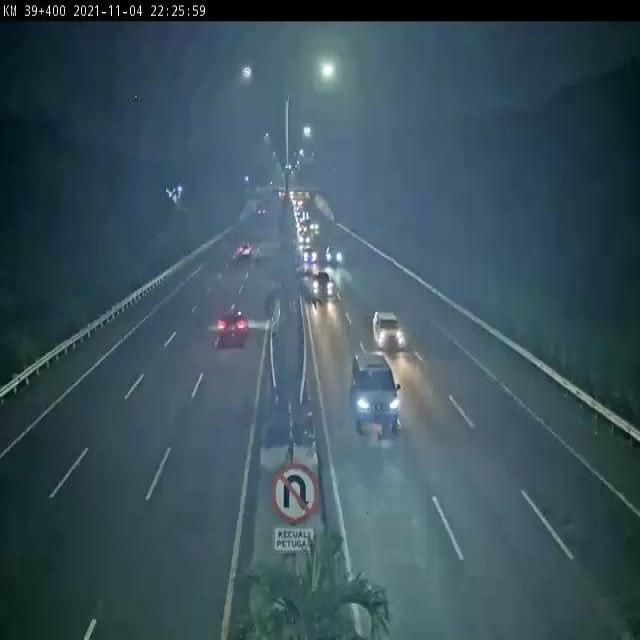car: (351, 351, 400, 437), (374, 312, 406, 353), (218, 312, 249, 348), (312, 274, 335, 302), (326, 247, 343, 265), (301, 246, 316, 262), (240, 241, 252, 256), (300, 233, 311, 244), (311, 219, 319, 229), (299, 224, 306, 231)
